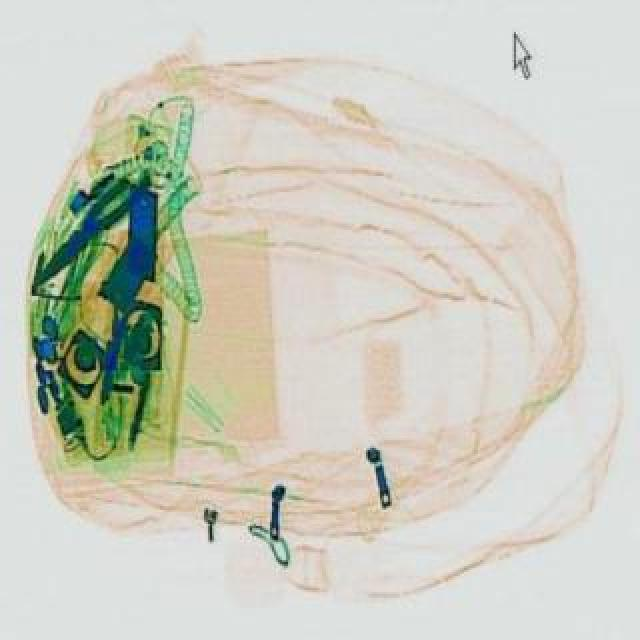wrench: (22, 172, 146, 294)
